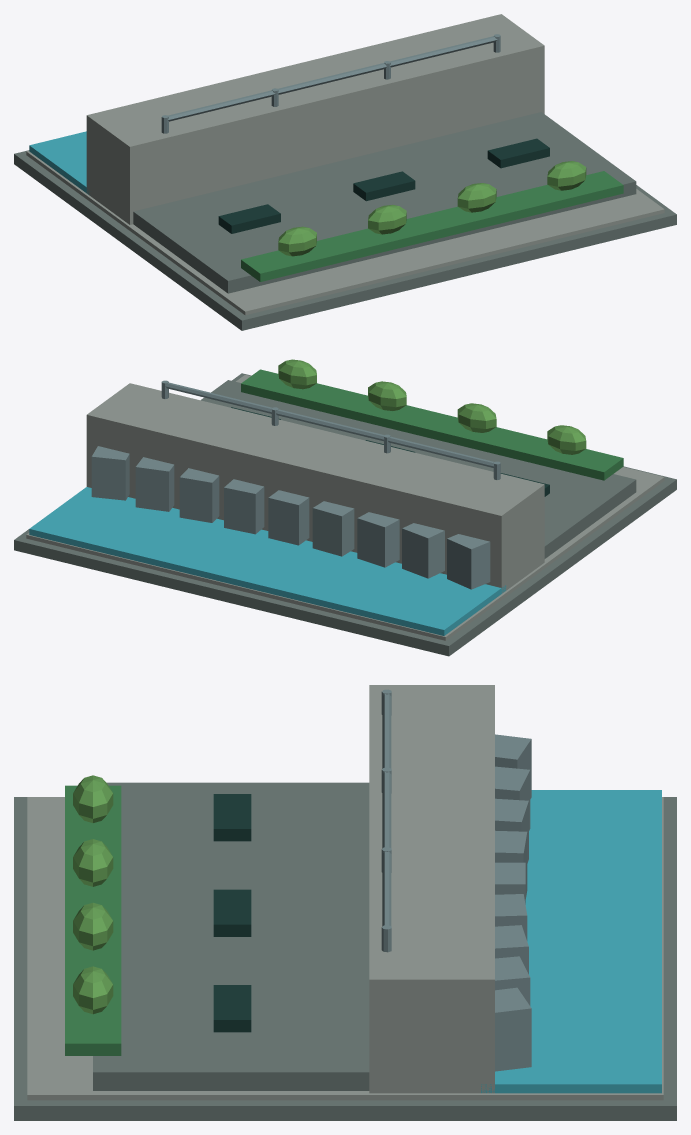
The model's file is seawall_lv3.glb.
3 renders of one model, top to bottom at view 1: azimuth 30°, elevation 25°; view 2: azimuth 150°, elevation 25°; view 3: azimuth 270°, elevation 25°, orthographic. The views are drawn at different scales.
Parts seen in each view (by area): view 1: rough, metallic, glossy; view 2: rough, glossy, metallic; view 3: rough, glossy, metallic.
Part boxes in pixels (<box>): rough: <box>14,14,676,330</box>; metallic: <box>161,34,500,133</box>; glossy: <box>29,131,89,194</box>; rough: <box>14,359,676,656</box>; glossy: <box>29,487,506,635</box>; metallic: <box>91,380,500,589</box>; rough: <box>14,685,676,1120</box>; glossy: <box>481,790,661,1093</box>; metallic: <box>381,689,531,1071</box>.
Size of the model in its own units: 9.7 by 2.3 by 8.8.
